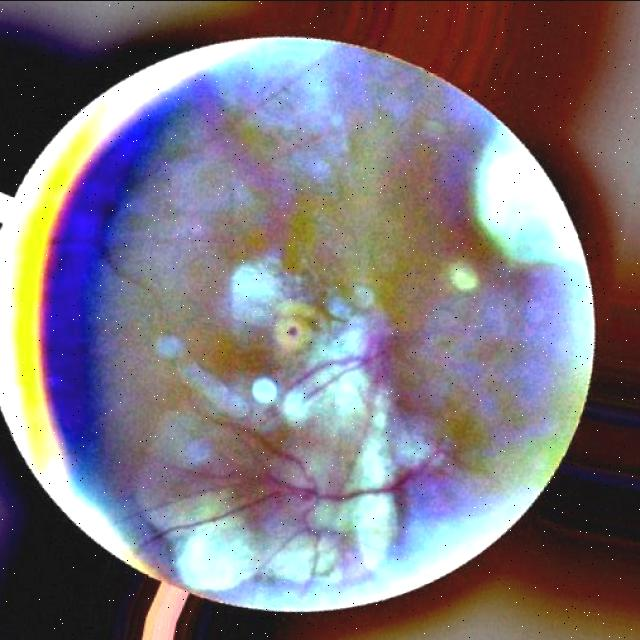Macula: (266, 301, 323, 362)
Nerves: (149, 489, 316, 546), (320, 447, 443, 500), (259, 499, 321, 580)
Optic Disk: (181, 427, 389, 584)
